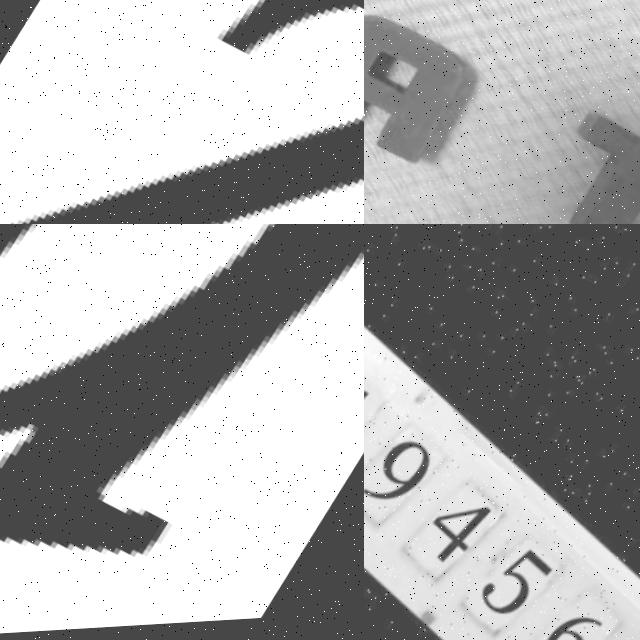1: (364, 345, 404, 481)
4: (399, 463, 525, 596)
5: (460, 519, 582, 640)
6: (520, 579, 636, 640)
9: (364, 409, 464, 539)
A: (364, 6, 492, 170)
T: (541, 109, 640, 224)
U: (0, 224, 364, 640)
Z: (0, 0, 364, 224)
